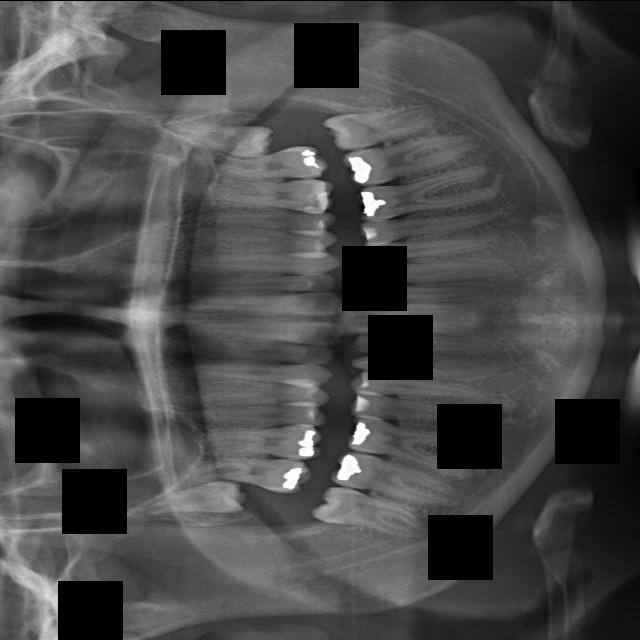3M ESPE Implant: (136, 480, 248, 516)
AGS Medikal Implant: (471, 139, 472, 140)
AMerOss Implant: (353, 163, 503, 223)
Amalgam filling: (180, 450, 313, 495)
Anthogyr Implant: (358, 200, 511, 247)
Bicon Implant: (359, 229, 505, 265)
BioHorizons Implant: (357, 260, 511, 284)
BioLife Implant: (352, 282, 495, 304)
Biomet 3i Implant: (354, 302, 483, 316)
Blue Sky Bio Implant: (347, 317, 482, 334)
Camlog Implant: (353, 333, 499, 353)
Caries: (186, 274, 336, 291)
Composite filling: (350, 350, 499, 378)
Cowellmedi Implant: (349, 368, 499, 402)
Crown: (348, 392, 494, 430)
DENTSPLY Implant: (190, 425, 323, 459)
Dentatus Implant: (344, 408, 486, 482)
Dentis Implant: (327, 444, 467, 517)
Dentium Implant: (309, 481, 431, 541)
Euroteknika Implant: (185, 402, 329, 426)
Filling: (183, 384, 331, 405)
Frontier Implant: (174, 363, 331, 384)
Hiossen Implant: (182, 249, 343, 277)
Implant: (183, 320, 344, 346)
Implant Direct: (182, 335, 335, 366)
Keystone Dental Implant: (179, 292, 345, 317)
MIS Implant: (190, 225, 338, 255)
Mandible: (205, 209, 338, 231)
Maxilla: (195, 171, 335, 212)
Megagen Implant: (205, 144, 330, 181)
Neodent Implant: (153, 114, 274, 156)
Neoss Implant: (431, 107, 432, 107)
